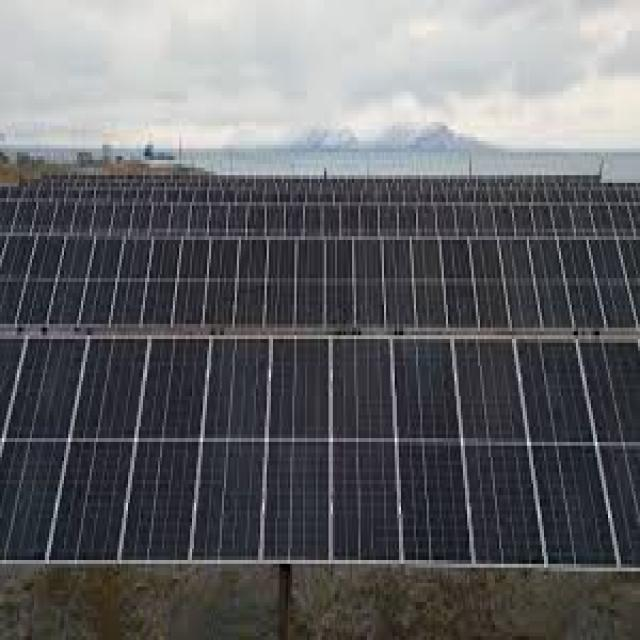clean-solar-panel: (0, 174, 640, 566)
